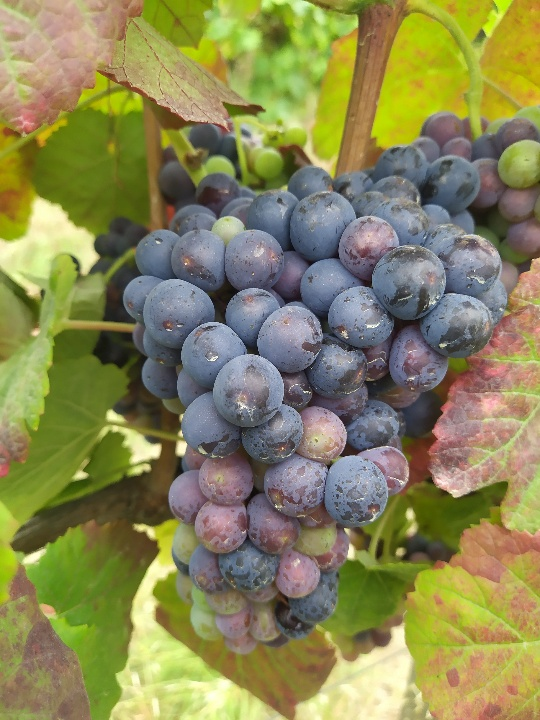grape: (121, 168, 511, 657)
